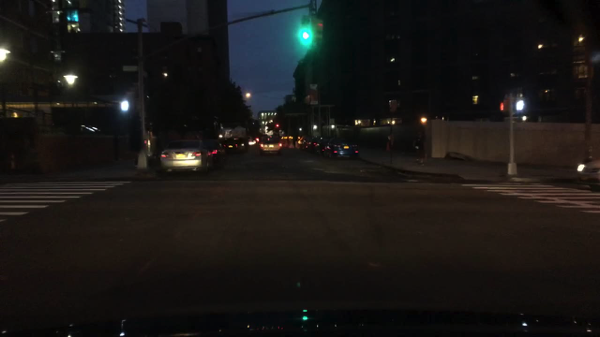car: (160, 138, 215, 177), (323, 136, 361, 161), (202, 138, 226, 166), (577, 159, 599, 189), (257, 133, 284, 156), (223, 134, 248, 155), (308, 136, 329, 155), (301, 135, 316, 150), (296, 135, 310, 151), (247, 135, 255, 144)
traffic light: (300, 15, 313, 44), (512, 97, 529, 116), (119, 93, 135, 113), (313, 18, 324, 41), (499, 98, 509, 112)
traffic sign: (309, 84, 318, 105), (123, 64, 139, 73)
